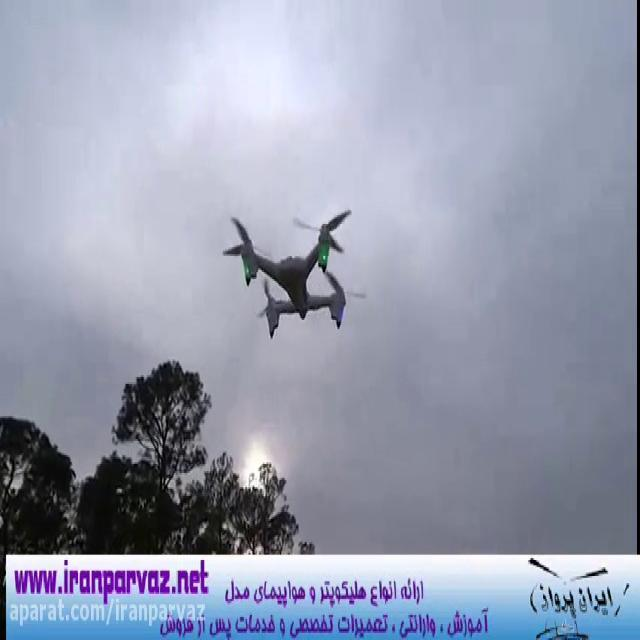drone: (219, 207, 368, 342)
